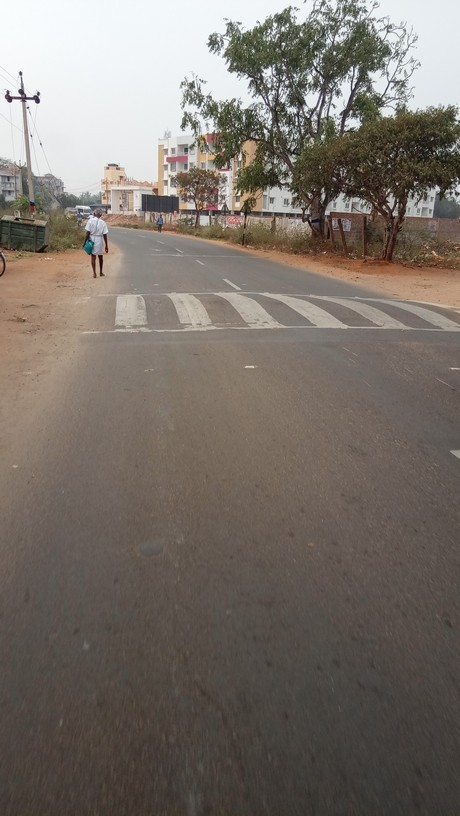bump: (33, 292, 459, 336)
